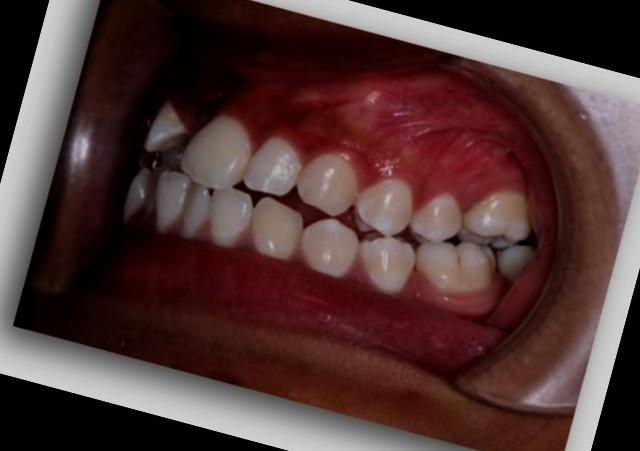canine class III 1/2: (238, 125, 386, 288)
molar class III 3/4: (402, 162, 540, 319)
